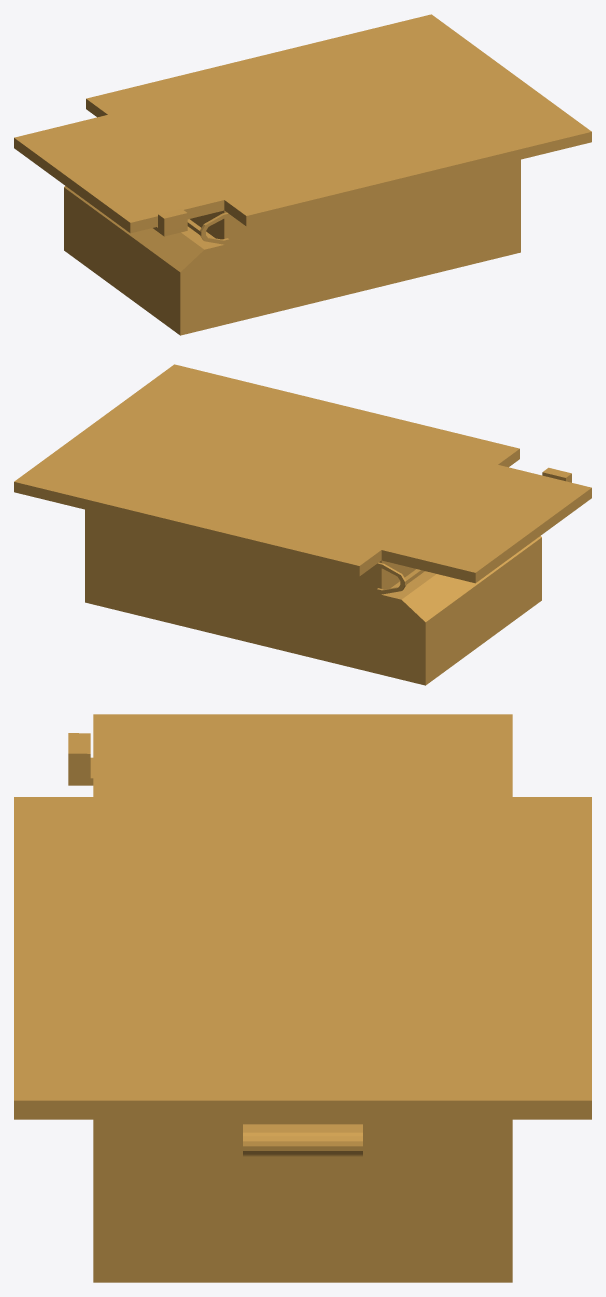
Rendered from rover-body.glb.
The picture shows the model from 3 angles, top to bottom: view 1: azimuth 30°, elevation 25°; view 2: azimuth 150°, elevation 25°; view 3: azimuth 270°, elevation 25°; orthographic projection. The views are drawn at different scales.
Bounding box in the file's own units: 25 × 6.93 × 15.8.
